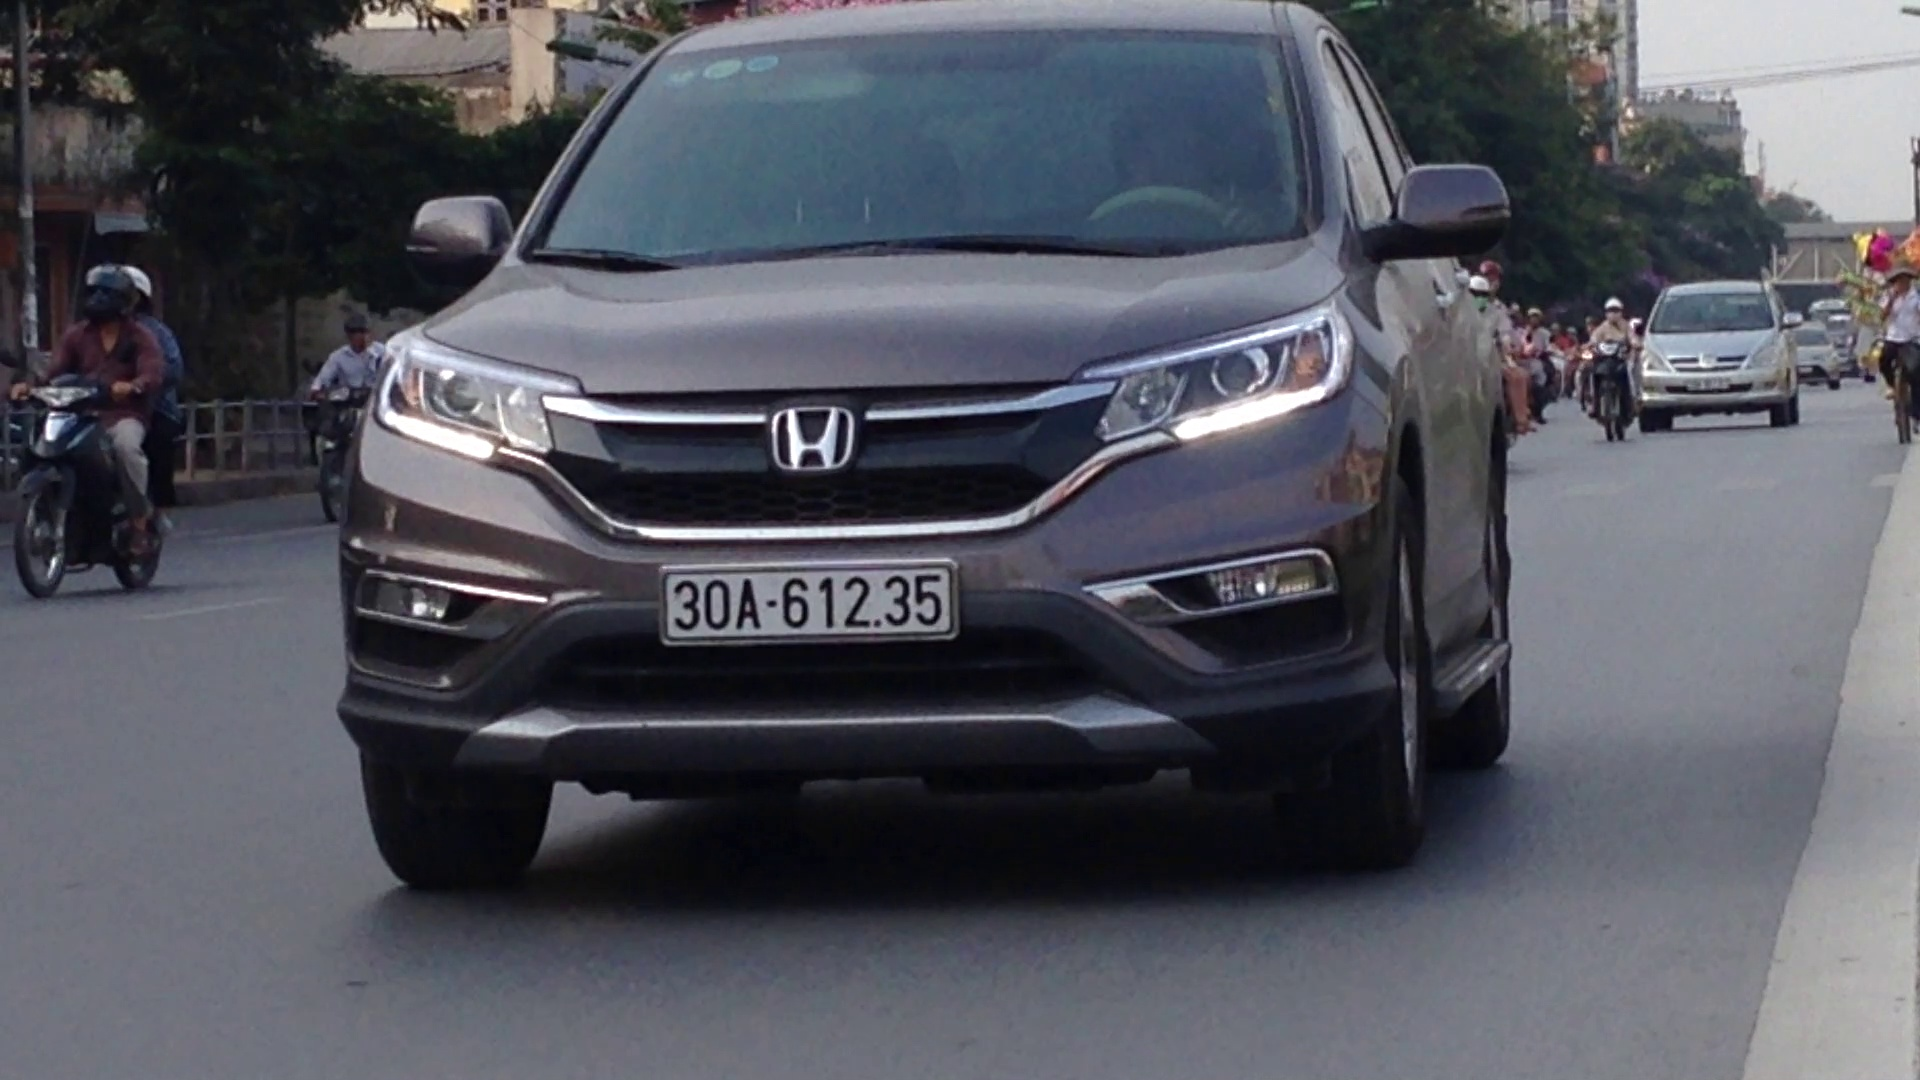vehicle-plate: (656, 556, 963, 644)
